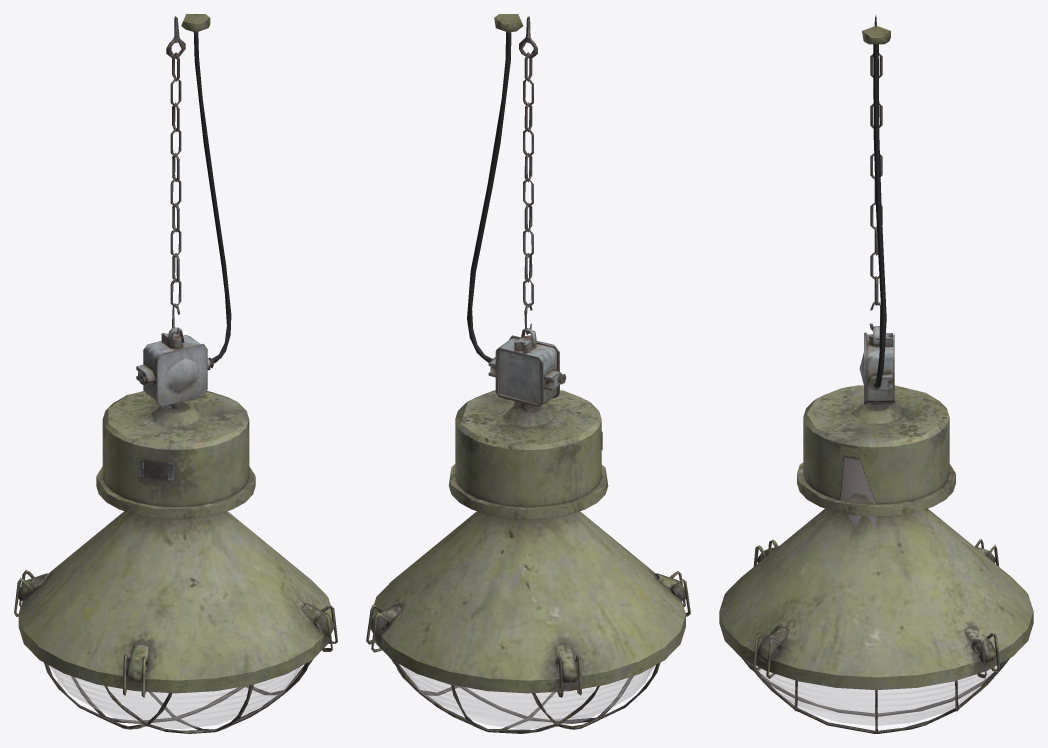
Rendered from hanging_industrial_lamp.gltf.
3 renders of one model, left to right at view 1: azimuth 30°, elevation 25°; view 2: azimuth 150°, elevation 25°; view 3: azimuth 270°, elevation 25°, orthographic.
Visible parts, largest first — view 1: hanging_industrial_lamp; view 2: hanging_industrial_lamp; view 3: hanging_industrial_lamp.
Boxes of the visible parts, x1,y1,x2,y2 form: hanging_industrial_lamp: (14, 14, 337, 733); hanging_industrial_lamp: (366, 14, 690, 733); hanging_industrial_lamp: (719, 15, 1033, 733).
Size of the model in its own units: 0.5496 by 1.36 by 0.5496.
Materials: 2 (1 with a texture image).
